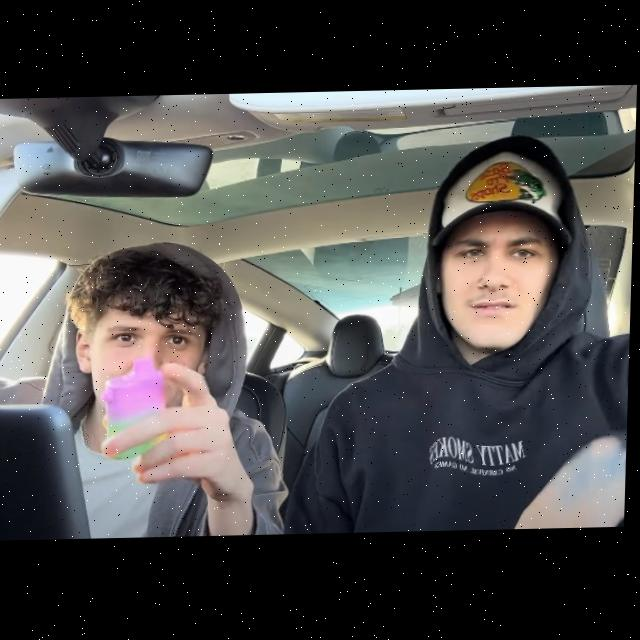vape: (103, 356, 174, 461)
